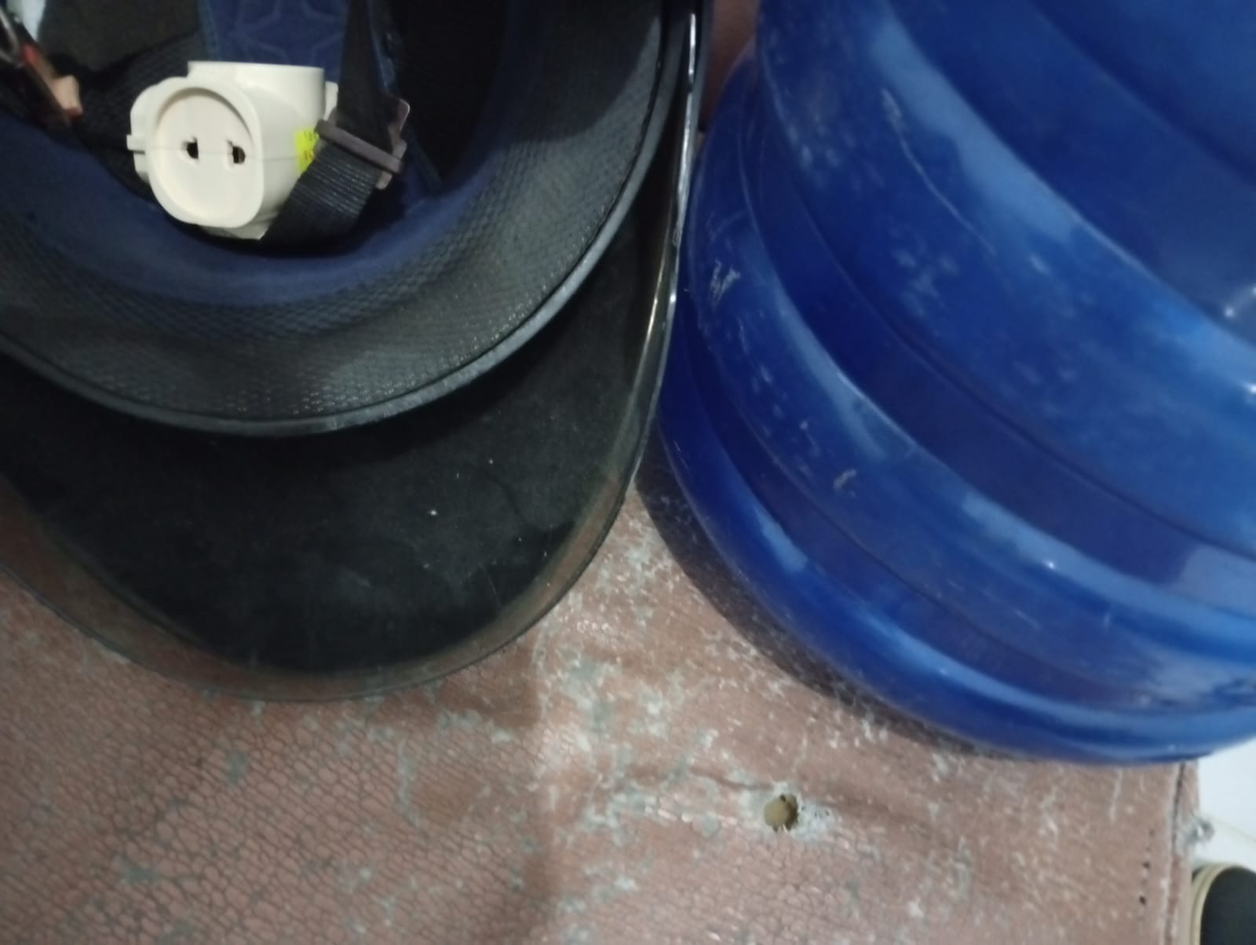Colokan: (73, 31, 411, 265)
